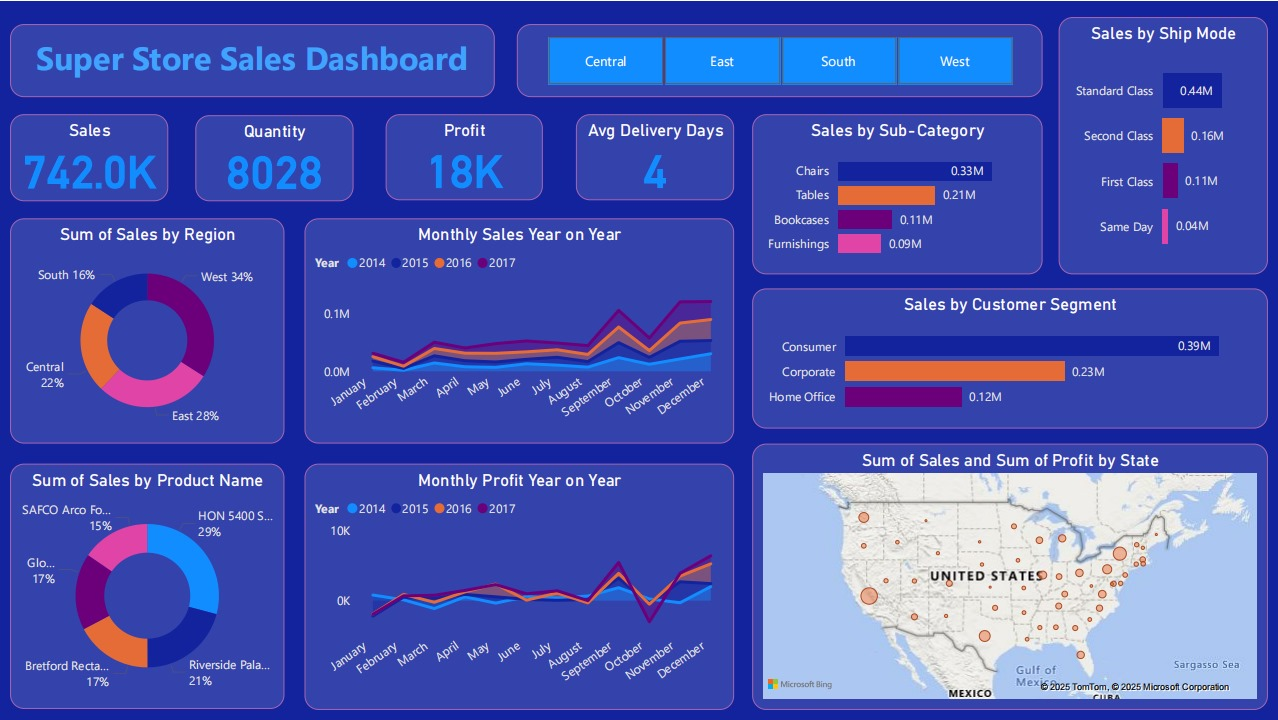

What the dashboard file says about the page in this screenshot:
{"tool":"powerbi","page":{"name":"Page 1","canvas":[1280,720],"ordinal":0},"visuals":[{"type":"clusteredBarChart","title":"Sales by Sub-Category","fields":{"Category":["stores_sales_forecasting.Sub-Category"],"Y":["Sum(stores_sales_forecasting.Sales)"]},"box":[752,112.5,289.5,160.5],"z":0},{"type":"clusteredBarChart","title":"Sales by Ship Mode","fields":{"Category":["stores_sales_forecasting.Ship Mode"],"Y":["Sum(stores_sales_forecasting.Sales)"]},"box":[1058,16.5,208.6,256.6],"z":1000},{"type":"clusteredBarChart","title":"Sales by Customer Segment","fields":{"Category":["stores_sales_forecasting.Segment"],"Y":["Sum(stores_sales_forecasting.Sales)"]},"box":[752,286.8,514.6,140],"z":2000},{"type":"stackedAreaChart","title":"Monthly Sales Year on Year","fields":{"Y":["Sum(stores_sales_forecasting.Sales)"],"Category":["stores_sales_forecasting.Order Date.Variation.Date Hierarchy.Month","stores_sales_forecasting.Order Date.Variation.Date Hierarchy.Day"],"Series":["stores_sales_forecasting.Order Date.Variation.Date Hierarchy.Year"]},"box":[304.6,216.8,429.5,225],"z":3000},{"type":"stackedAreaChart","title":"Monthly Profit Year on Year","fields":{"Category":["stores_sales_forecasting.Order Date.Variation.Date Hierarchy.Month","stores_sales_forecasting.Order Date.Variation.Date Hierarchy.Day"],"Series":["stores_sales_forecasting.Order Date.Variation.Date Hierarchy.Year"],"Y":["Sum(stores_sales_forecasting.Profit)"]},"box":[304.6,462.4,429.5,245.6],"z":4000},{"type":"map","fields":{"Category":["stores_sales_forecasting.State"],"Size":["Sum(stores_sales_forecasting.Sales)"]},"box":[752,441.9,514.6,266.2],"z":5000},{"type":"donutChart","fields":{"Category":["stores_sales_forecasting.Region"],"Y":["Sum(stores_sales_forecasting.Sales)"]},"box":[11,216.8,274.4,225],"z":6000},{"type":"donutChart","fields":{"Category":["stores_sales_forecasting.Product Name"],"Y":["Sum(stores_sales_forecasting.Sales)"]},"box":[11,462.4,274.4,244.3],"z":7000},{"type":"slicer","fields":{"Values":["stores_sales_forecasting.Region"]},"box":[517.3,23.3,524.2,72.7],"z":8000},{"type":"textbox","box":[11,23.3,484.4,72.7],"z":9000},{"type":"card","title":"Sales","fields":{"Values":["Sum(stores_sales_forecasting.Sales)"]},"box":[11,112.5,157.8,87.8],"z":10000},{"type":"card","title":"Quantity","fields":{"Values":["Sum(stores_sales_forecasting.Quantity)"]},"box":[196.2,113.9,157.8,86.4],"z":11000},{"type":"card","title":"Profit","fields":{"Values":["Sum(stores_sales_forecasting.Profit)"]},"box":[385.6,112.5,157.8,86.4],"z":12000},{"type":"card","title":"Avg Delivery Days","fields":{"Values":["Avg(stores_sales_forecasting.AvgDelivery)"]},"box":[576.3,112.5,157.8,86.4],"z":13000}]}

Visuals, with their boxes in screenshot pixels (x1, y1, x2, y2), scaled from the page's 1280x720 canvas onto the 1278x720 screenshot:
"Sales by Sub-Category" clusteredBarChart: {"left": 751, "top": 112, "right": 1040, "bottom": 273}
"Sales by Ship Mode" clusteredBarChart: {"left": 1056, "top": 16, "right": 1265, "bottom": 273}
"Sales by Customer Segment" clusteredBarChart: {"left": 751, "top": 287, "right": 1265, "bottom": 427}
"Monthly Sales Year on Year" stackedAreaChart: {"left": 304, "top": 217, "right": 733, "bottom": 442}
"Monthly Profit Year on Year" stackedAreaChart: {"left": 304, "top": 462, "right": 733, "bottom": 708}
map - stores_sales_forecasting.State x Sum(stores_sales_forecasting.Sales): {"left": 751, "top": 442, "right": 1265, "bottom": 708}
donutChart - stores_sales_forecasting.Region x Sum(stores_sales_forecasting.Sales): {"left": 11, "top": 217, "right": 285, "bottom": 442}
donutChart - stores_sales_forecasting.Product Name x Sum(stores_sales_forecasting.Sales): {"left": 11, "top": 462, "right": 285, "bottom": 707}
slicer - stores_sales_forecasting.Region: {"left": 516, "top": 23, "right": 1040, "bottom": 96}
textbox: {"left": 11, "top": 23, "right": 495, "bottom": 96}
"Sales" card: {"left": 11, "top": 112, "right": 169, "bottom": 200}
"Quantity" card: {"left": 196, "top": 114, "right": 353, "bottom": 200}
"Profit" card: {"left": 385, "top": 112, "right": 543, "bottom": 199}
"Avg Delivery Days" card: {"left": 575, "top": 112, "right": 733, "bottom": 199}
